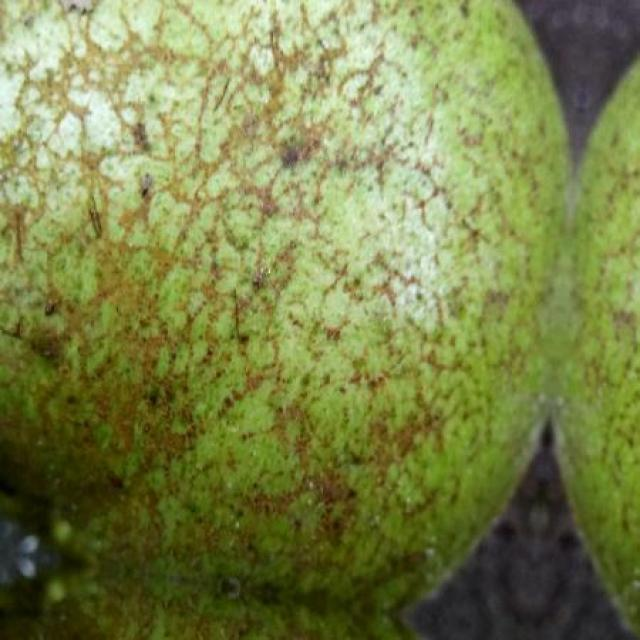Scab: (0, 0, 564, 640)
